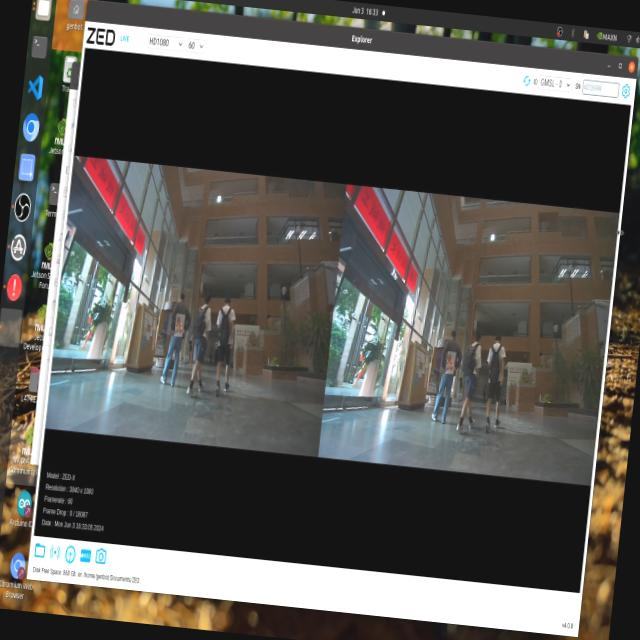red: (172, 310, 190, 340), (443, 348, 458, 379)
